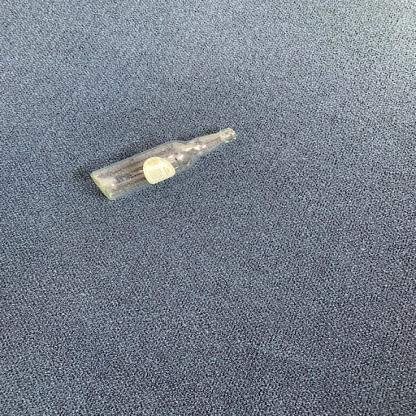trash: (88, 130, 240, 204)
